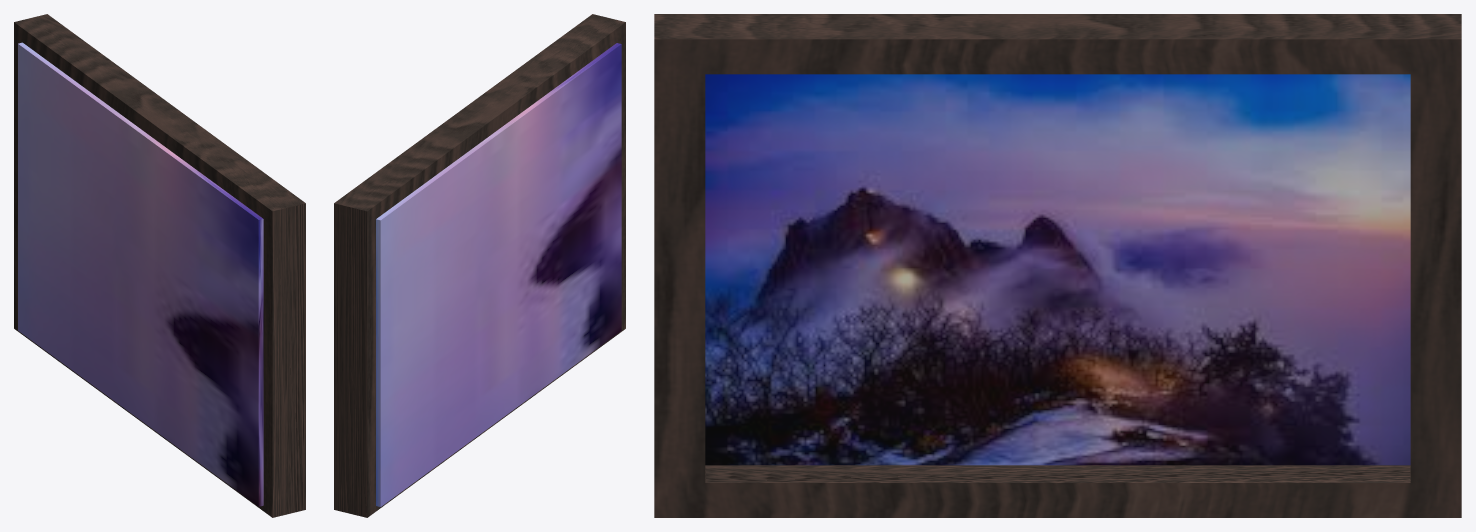
3 renders of one model, left to right at view 1: azimuth 30°, elevation 25°; view 2: azimuth 150°, elevation 25°; view 3: azimuth 270°, elevation 25°, orthographic. The views are drawn at different scales.
Parts seen in each view (by area): view 1: 액자1; view 2: 액자1; view 3: 액자1.
Part boxes in pixels (left/top/right/bottom): 액자1: left=14, top=14, right=305, bottom=517; 액자1: left=334, top=14, right=625, bottom=517; 액자1: left=654, top=14, right=1461, bottom=517.
Size of the model in its own units: 20.92 by 161 by 246.
2 materials, 2 textured.
